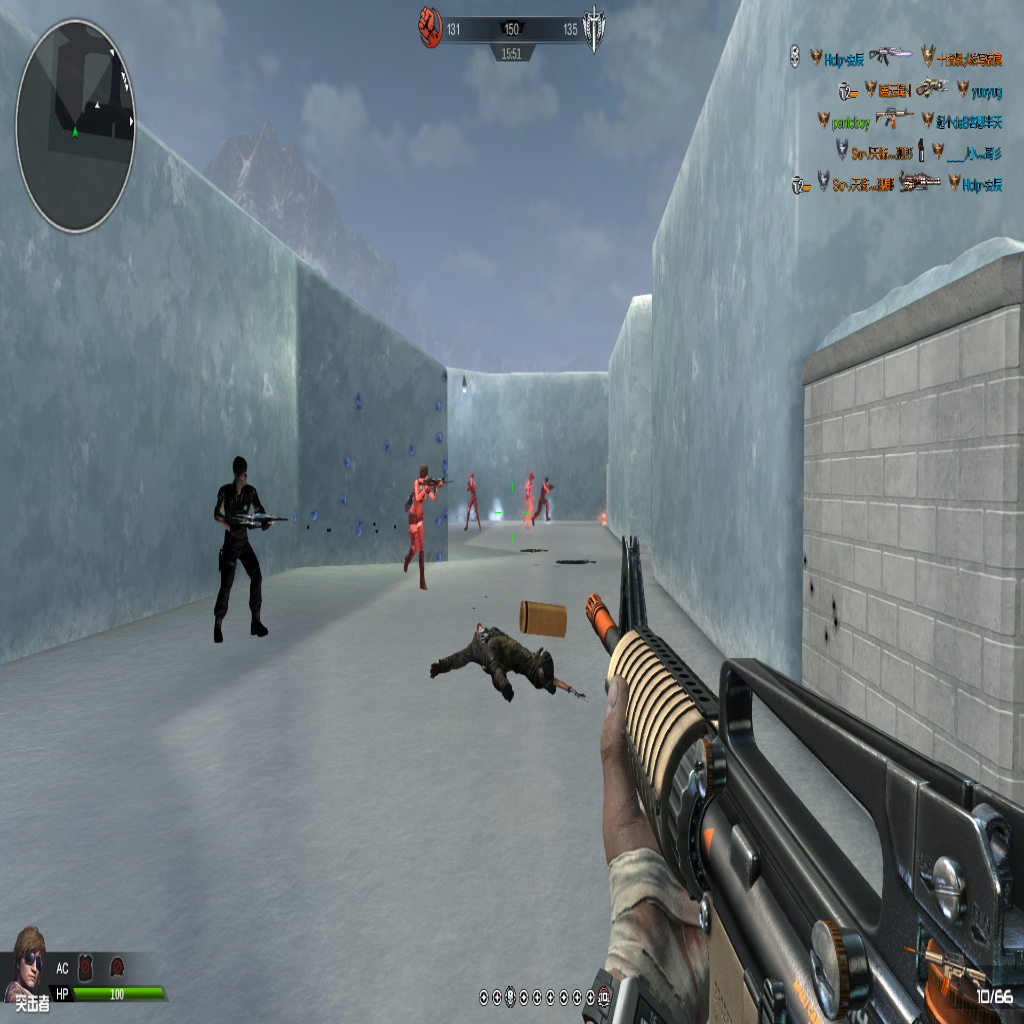ct: (210, 449, 278, 647), (400, 466, 439, 589), (464, 468, 481, 534), (538, 476, 555, 521), (524, 472, 536, 527)
